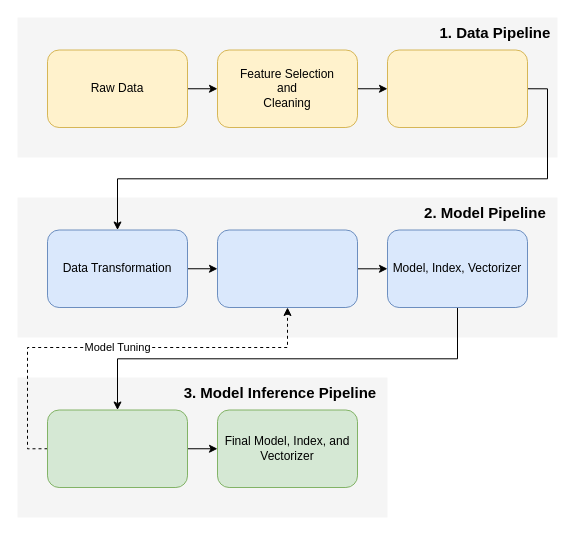
The diagram is 574 pixels wide and 534 high, and some of its shapes have lost their labels. Here are the shapes that lost their labels. From the top down, the centre of each, then its label:
At (x=457, y=88): "Cleaned Dataset".
At (x=287, y=268): "Model Training".
At (x=117, y=448): "Model Inference".
